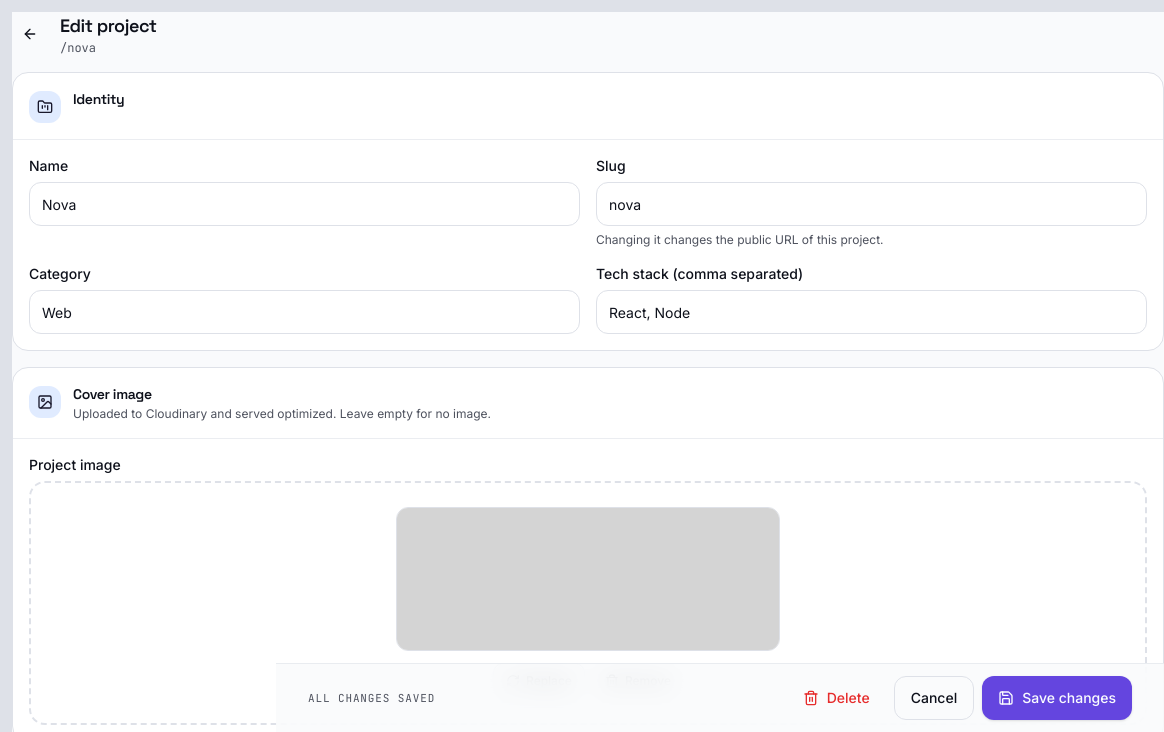
ProjectEditor — dirty state lifecycle › 11. a failed update keeps the editor dirty
Check: the text "All changes saved" is shown, box [308,690,435,706]
Type " X" into the field labelled "Name" at (304, 204), box [29,182,580,226]
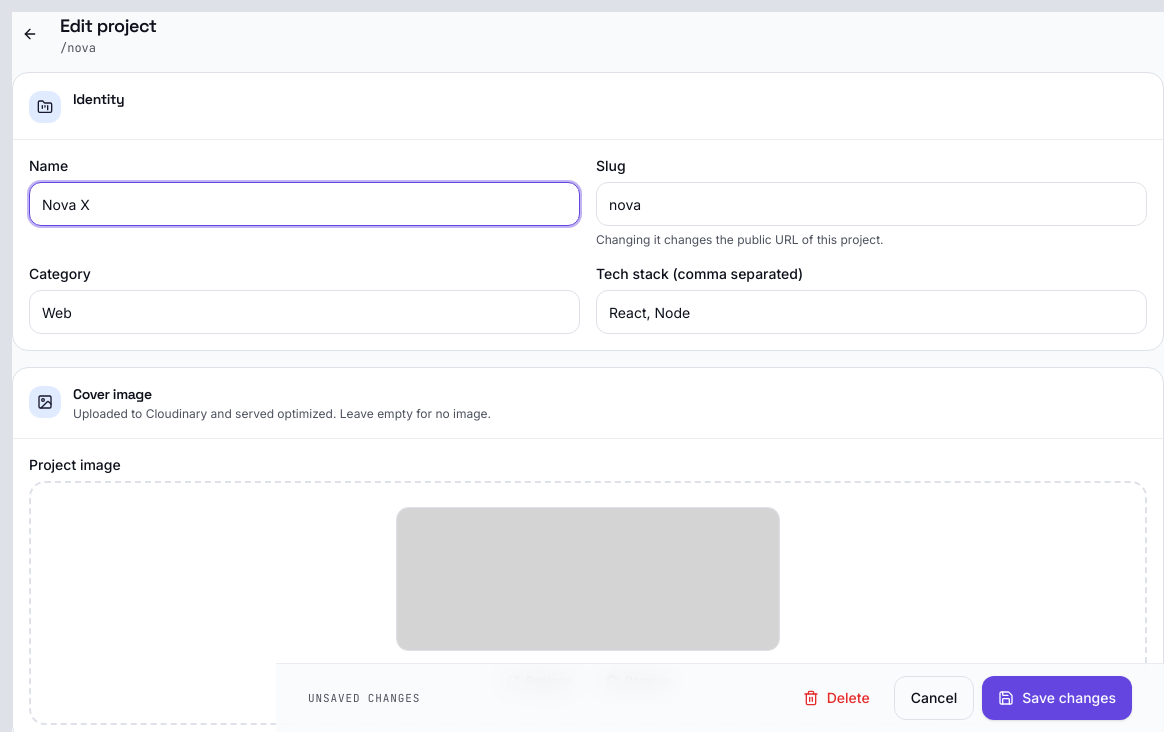
Click the button "Save changes" at (1057, 698), box [982,676,1132,720]
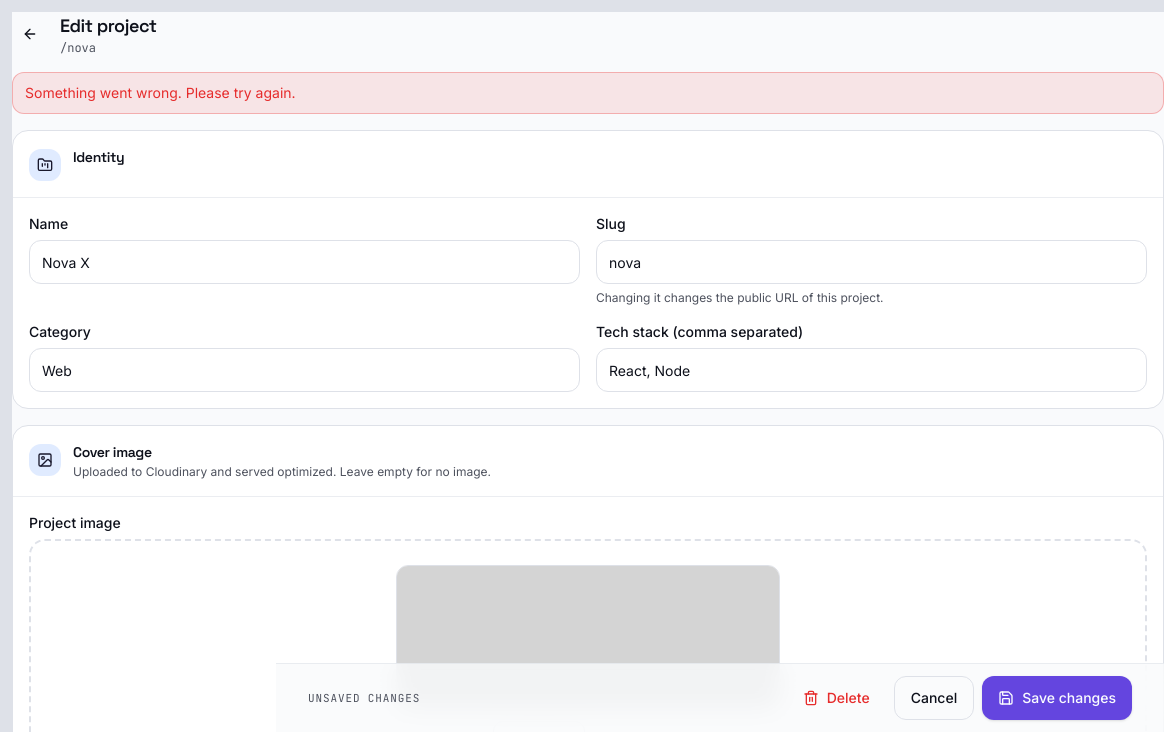
Check: the text "Unsaved changes" is shown, box [308,690,420,706]
Check: the message "Something went wrong. Please try again." is shown, box [12,72,1163,114]
